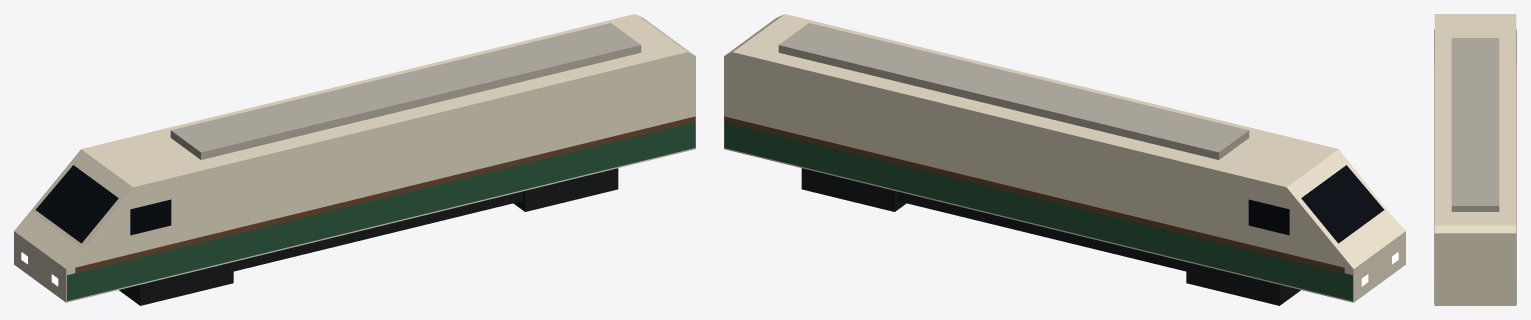
Rendered from loco-cascades.glb.
The picture shows the model from 3 angles, left to right: view 1: azimuth 30°, elevation 25°; view 2: azimuth 150°, elevation 25°; view 3: azimuth 270°, elevation 25°; orthographic projection. The views are drawn at different scales.
Parts seen in each view (by area): view 1: locomotive; view 2: locomotive; view 3: locomotive.
Part boxes in pixels (bbox=[...]): locomotive: bbox=[14, 14, 695, 305]; locomotive: bbox=[724, 14, 1405, 305]; locomotive: bbox=[1434, 14, 1516, 305].
Bounding box in the file's own units: 21.62 × 4.25 × 3.12.
